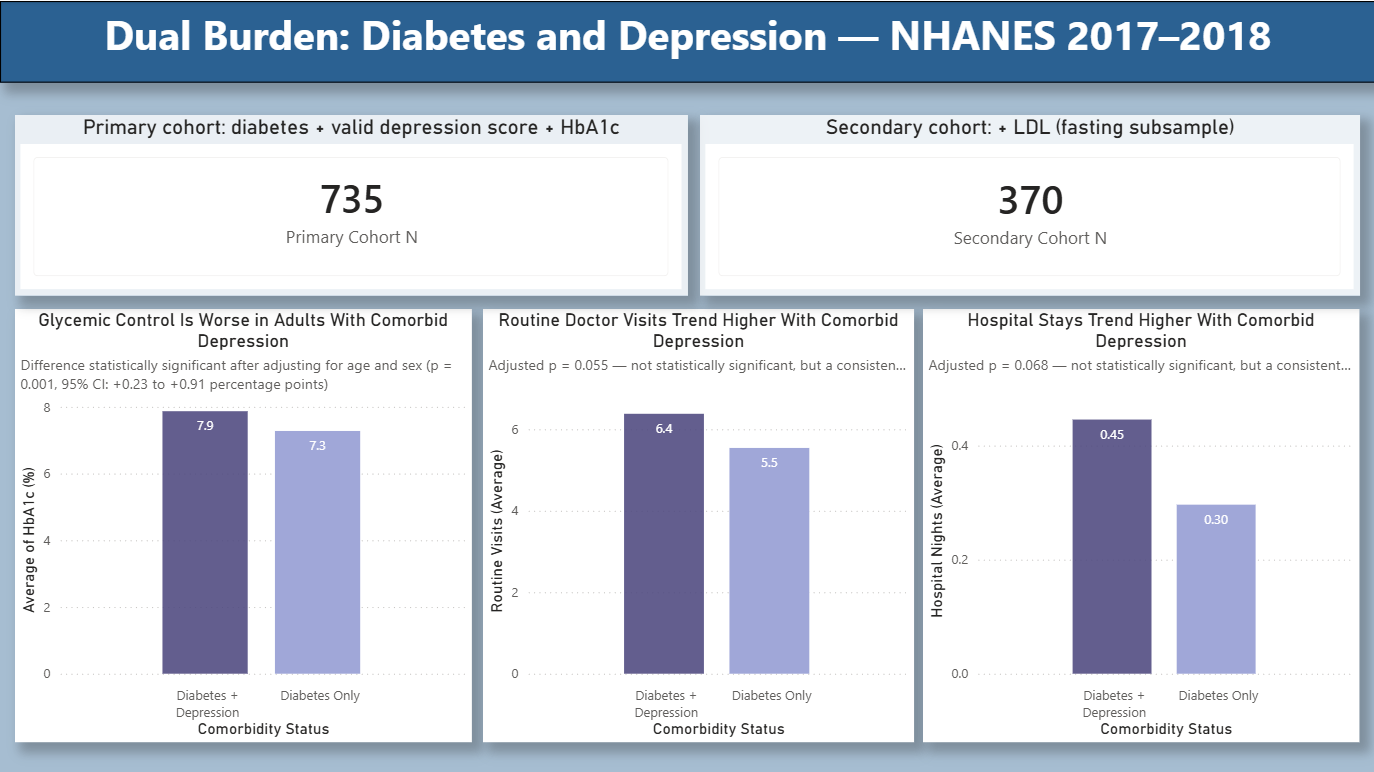

What the dashboard file says about the page in this screenshot:
{"tool":"powerbi","page":{"name":"Page 1","canvas":[1280,720],"ordinal":0},"visuals":[{"type":"clusteredColumnChart","title":"Glycemic Control Is Worse in Adults With Comorbid Depression","fields":{"Category":["analysis_cohort_primary.Comorbidity Status"],"Y":["Avg(analysis_cohort_primary.hba1c)"]},"box":[14.3,286.7,424.7,403.3],"z":0},{"type":"clusteredColumnChart","title":"Routine Doctor Visits Trend Higher With Comorbid Depression","fields":{"Category":["analysis_cohort_primary.Comorbidity Status"],"Y":["Avg(analysis_cohort_primary.routine_visits_est)"]},"box":[449.7,286.7,400.9,403.3],"z":1000},{"type":"clusteredColumnChart","title":"Hospital Stays Trend Higher With Comorbid Depression","fields":{"Category":["analysis_cohort_primary.Comorbidity Status"],"Y":["Avg(analysis_cohort_primary.hospital_nights_est)"]},"box":[858.9,286.7,405.7,403.3],"z":2000},{"type":"cardVisual","title":"Primary cohort: diabetes + valid depression score + HbA1c","fields":{"Data":["analysis_cohort_primary.Primary Cohort N"]},"box":[14.3,105.9,625.7,167.7],"z":3000},{"type":"cardVisual","title":"Secondary cohort: + LDL (fasting subsample)","fields":{"Data":["analysis_cohort_secondary.Secondary Cohort N"]},"box":[650.7,105.9,613.8,167.7],"z":4000},{"type":"textbox","box":[0,0,1280,76.1],"z":4001}]}

Visuals, with their boxes in screenshot pixels (x1, y1, x2, y2), scaled from the page's 1280x720 canvas onto the 1374x772 screenshot:
"Glycemic Control Is Worse in Adults With Comorbid Depression" clusteredColumnChart: (15,307,471,740)
"Routine Doctor Visits Trend Higher With Comorbid Depression" clusteredColumnChart: (483,307,913,740)
"Hospital Stays Trend Higher With Comorbid Depression" clusteredColumnChart: (922,307,1357,740)
"Primary cohort: diabetes + valid depression score + HbA1c" cardVisual: (15,114,687,293)
"Secondary cohort: + LDL (fasting subsample)" cardVisual: (698,114,1357,293)
textbox: (0,0,1373,82)
